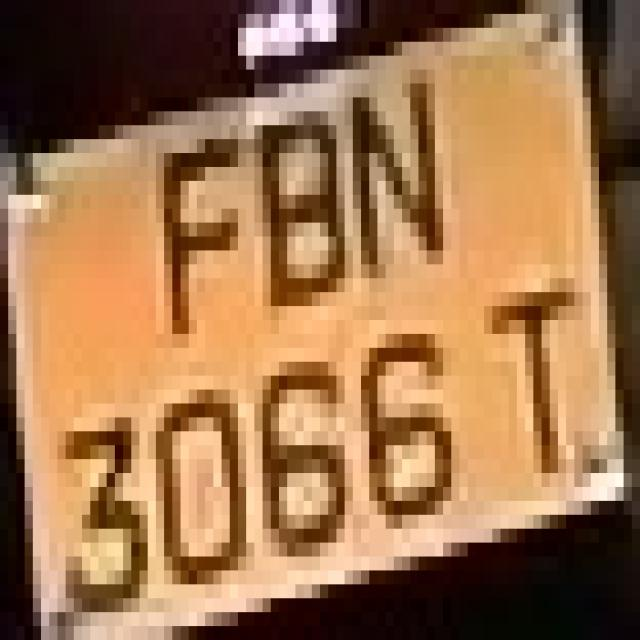0: (148, 334, 262, 612)
3: (33, 390, 139, 626)
6: (353, 306, 468, 543), (254, 306, 353, 557)
B: (230, 55, 344, 348)
F: (132, 83, 255, 362)
N: (328, 28, 460, 306)
T: (476, 264, 599, 515)
